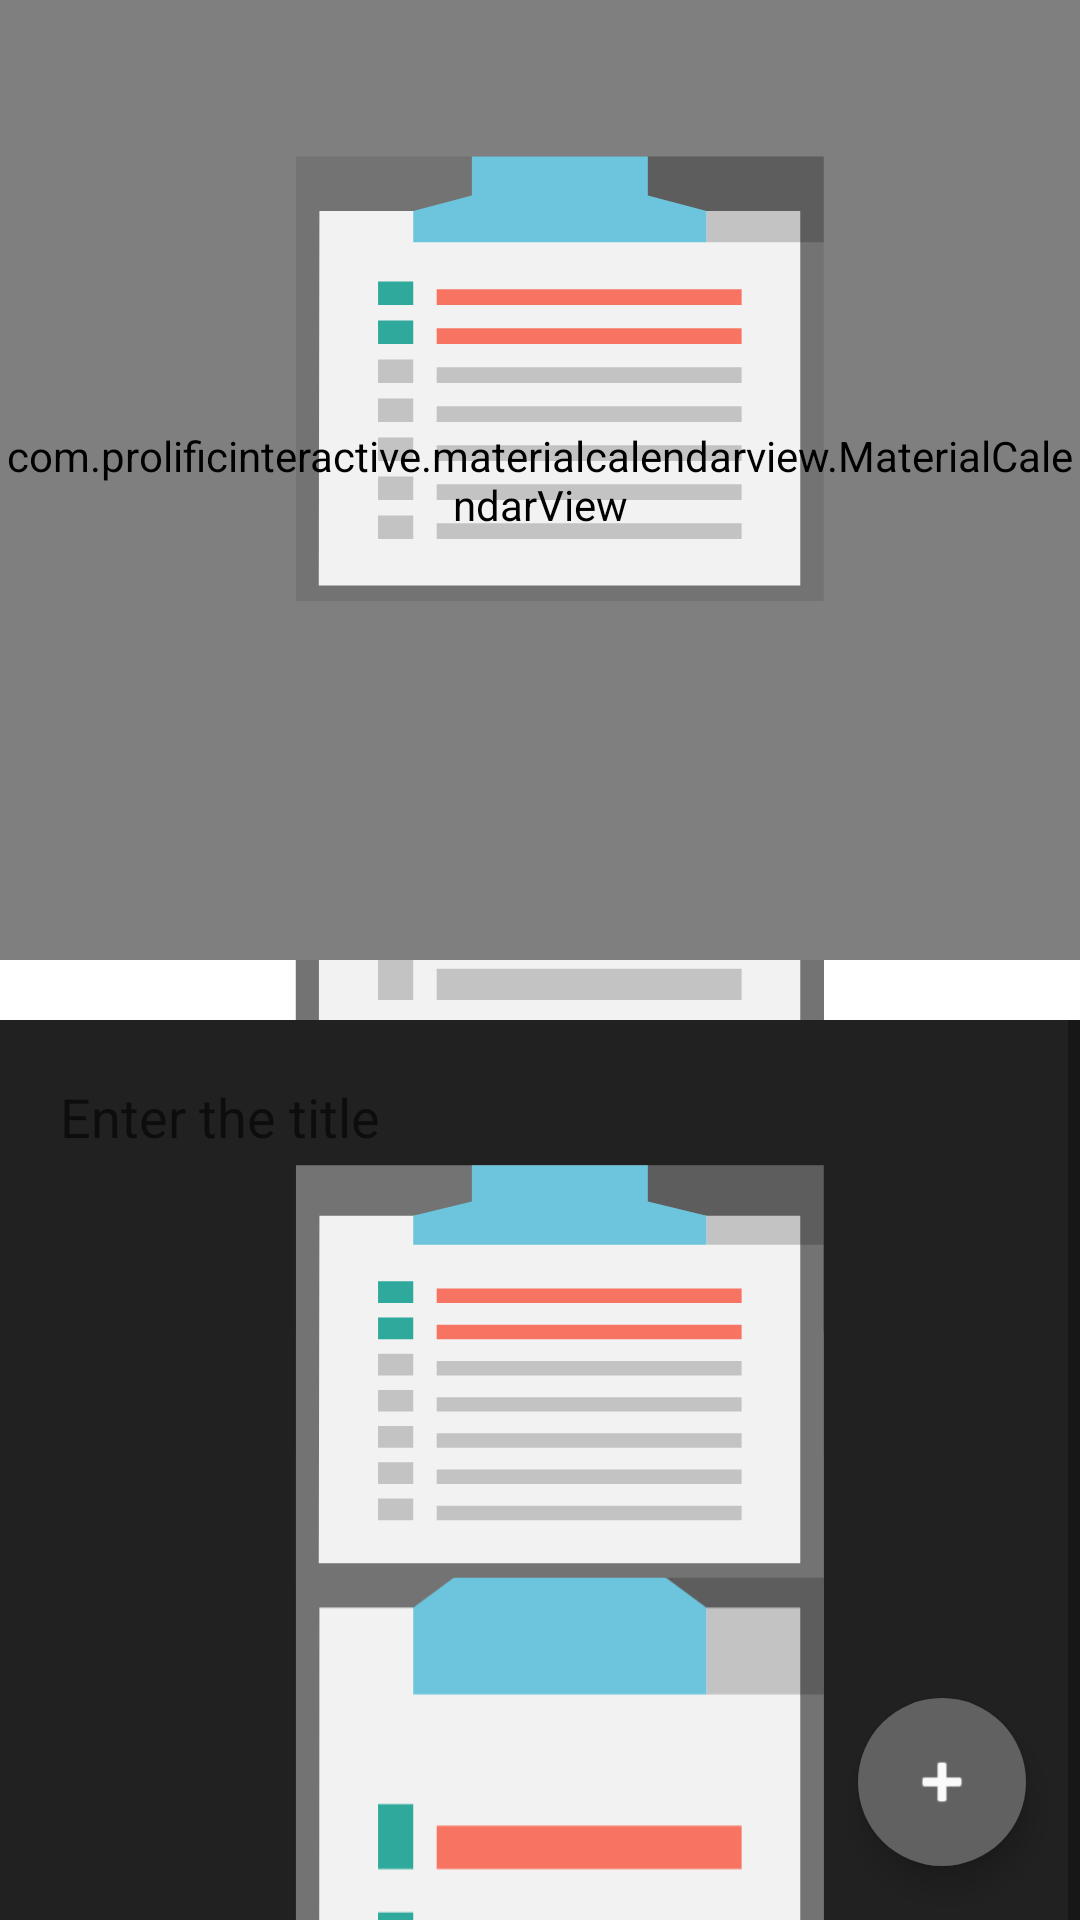

Where icons sit on this 1080w x 1920h app screen, as (x1=x1, y1=y1, x2=x2, y2=y2):
add: (x1=858, y1=1698, x2=1026, y2=1866)
